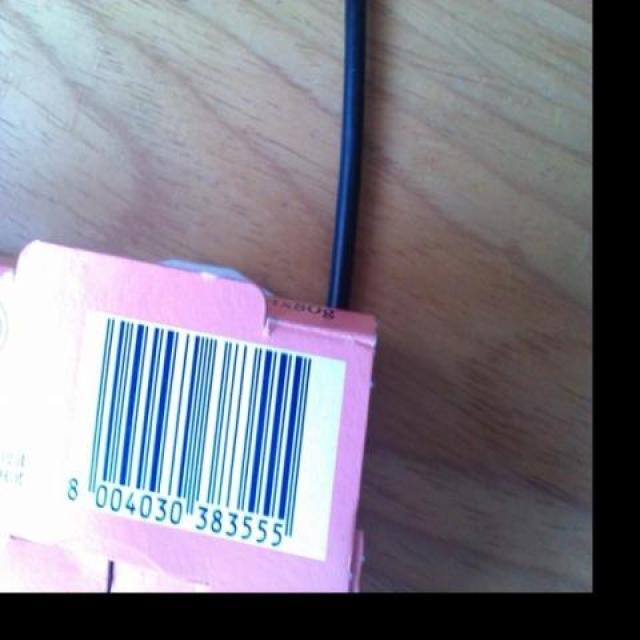Barcode: (51, 306, 348, 562)
